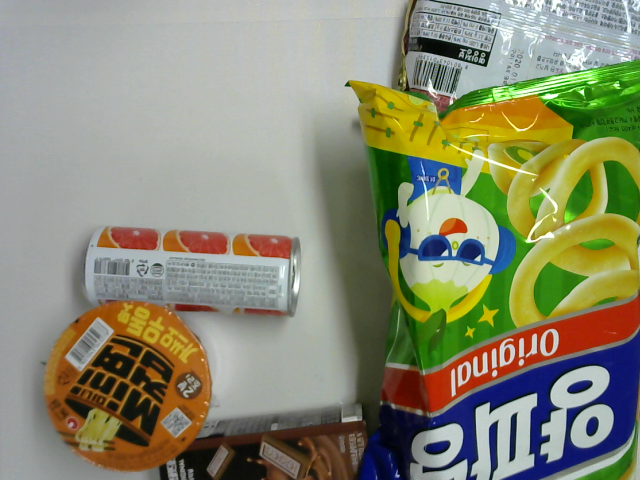Demisoda_Grapefruit_Can_250ml: (76, 226, 305, 324)
Hush_Choco_Drink: (157, 402, 371, 480)
Oninon_Ring: (340, 56, 640, 479)
Sichuan_Chapaghetti: (395, 1, 640, 109)
Udongmini: (41, 297, 213, 477)
